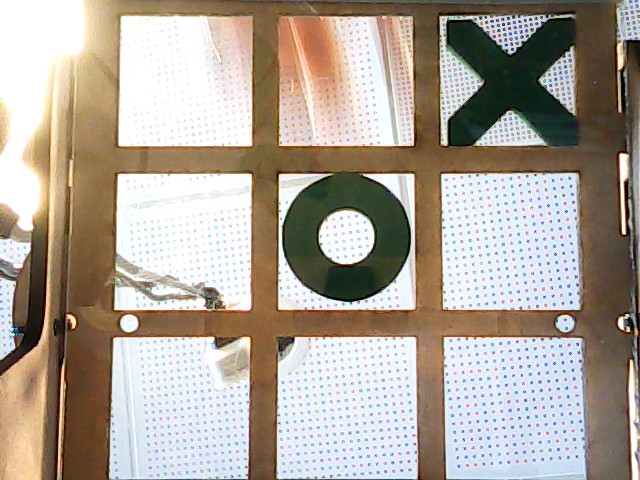O: (279, 173, 415, 303)
X: (441, 18, 580, 145)
